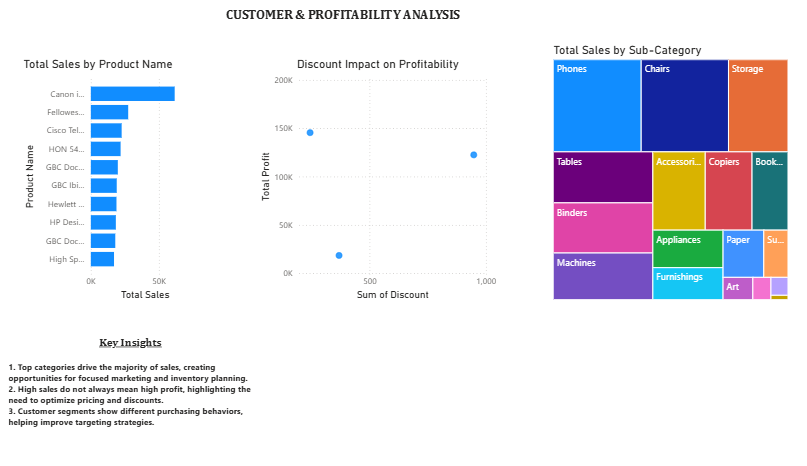

The dashboard page shown, as its layout file describes it:
{"tool":"powerbi","page":{"name":"Page 2","canvas":[1280,720],"ordinal":1},"visuals":[{"type":"barChart","fields":{"Category":["Table1.Product Name"],"Y":["Table1.Total Sales"]},"box":[94.1,95.7,273.8,354.4],"z":0},{"type":"treemap","fields":{"Values":["Table1.Total Sales"],"Group":["Table1.Sub-Category"]},"box":[856.7,75.6,347.7,374.6],"z":1000},{"type":"scatterChart","title":" Discount Impact on Profitability","fields":{"Y":["Table1.Total Profit"],"X":["Sum(Table1.Discount)"],"Category":["Table1.Category"]},"box":[433.4,95.7,351.1,354.4],"z":2000},{"type":"textbox","box":[384.7,16.8,399.8,79],"z":3000},{"type":"textbox","box":[72.2,490.5,361.2,218.4],"z":4000}]}

Visuals, with their boxes in screenshot pixels (x1, y1, x2, y2), scaled from the page's 1280x720 canvas onto the 807x466 screenshot:
barChart - Table1.Product Name x Table1.Total Sales: bbox=(59, 62, 232, 291)
treemap - Table1.Total Sales x Table1.Sub-Category: bbox=(540, 49, 759, 291)
" Discount Impact on Profitability" scatterChart: bbox=(273, 62, 495, 291)
textbox: bbox=(243, 11, 495, 62)
textbox: bbox=(46, 317, 273, 459)
